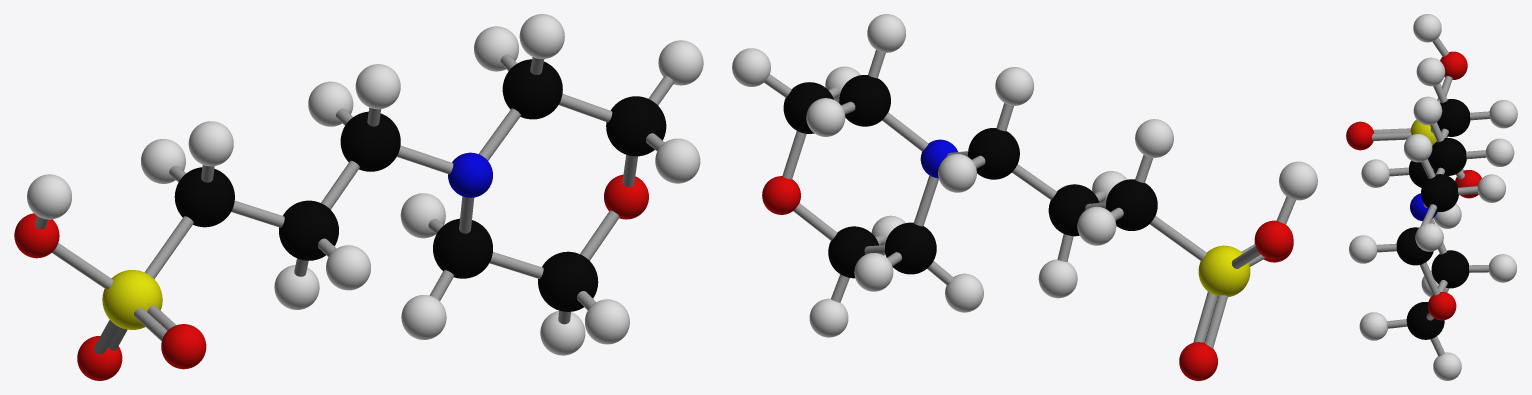
Rendered from MOPS.glb.
3 views of the same model, side by side, from view 1: azimuth 30°, elevation 25°; view 2: azimuth 150°, elevation 25°; view 3: azimuth 270°, elevation 25° (orthographic). The views are drawn at different scales.
Visible parts, largest first — view 1: world; view 2: world; view 3: world.
Boxes of the visible parts, box(x1,y1,x2,y2) form: world: box(14, 14, 703, 380); world: box(732, 14, 1317, 380); world: box(1346, 14, 1517, 380).
Size of the model in its own units: 10.31 by 5.35 by 3.61.
